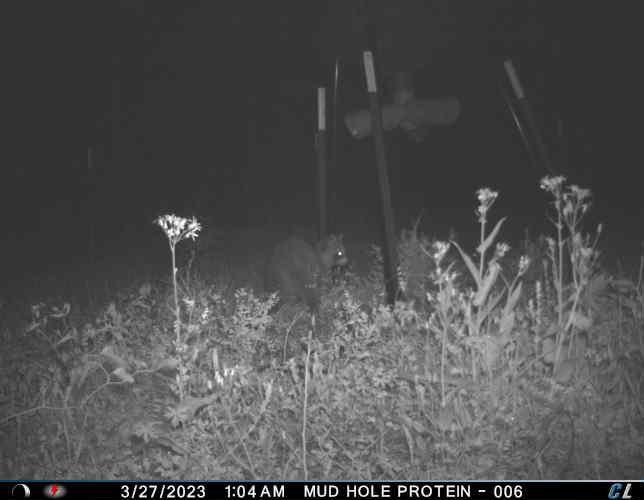Raccoon: (262, 228, 355, 308)
